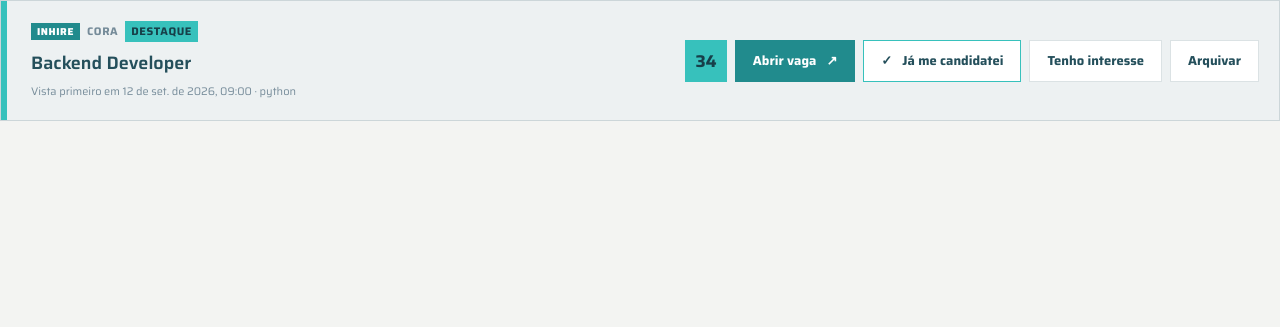
open job, inline prompt and desktop bridge › Applied from the prompt creates the application and removes the row
Click the link "Abrir vaga ↗": coordinates (795, 60) [735,40,855,82]
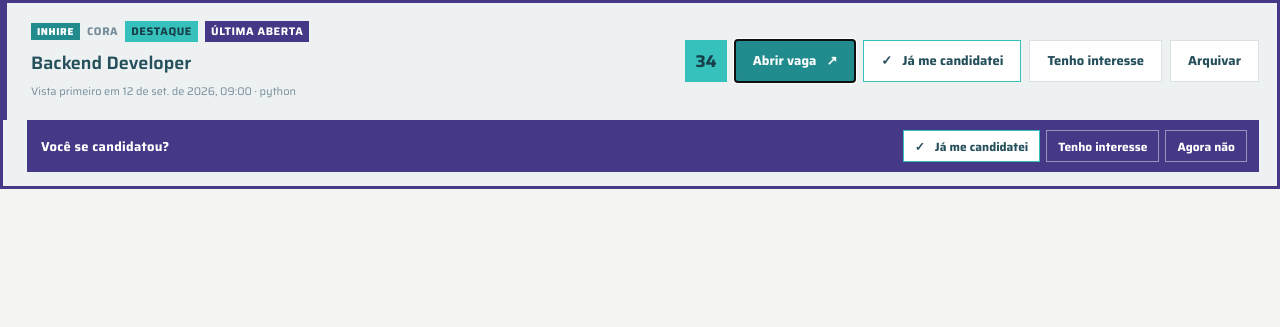
Click the button "✓ Já me candidatei" in the row of "Você se candidatou?": coordinates (972, 146) [903,130,1040,162]
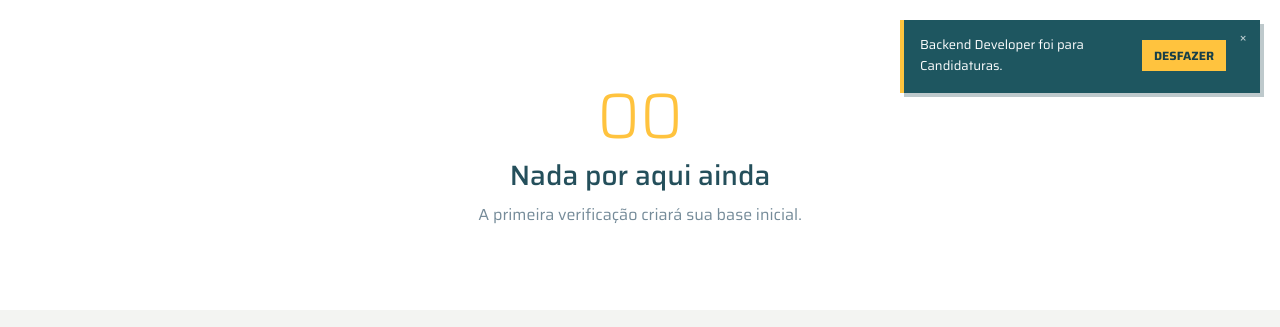
expect the text "Backend Developer foi para Candidaturas." is shown: met, box [920,34,1084,76]
